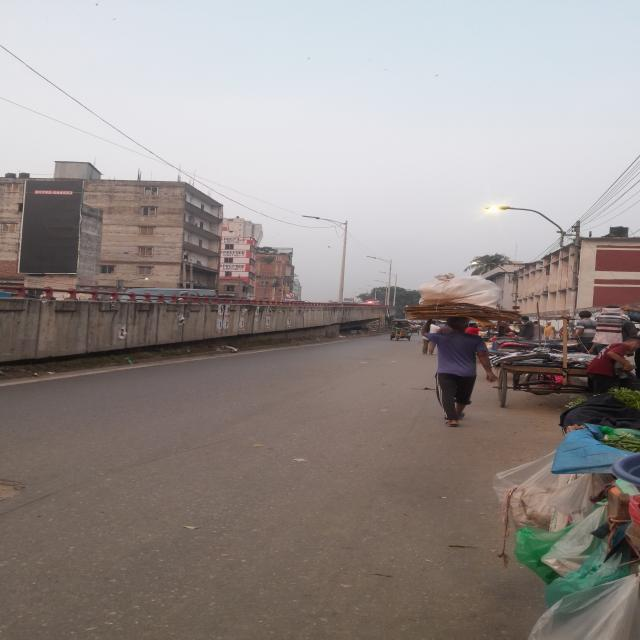person: (416, 316, 502, 428)
